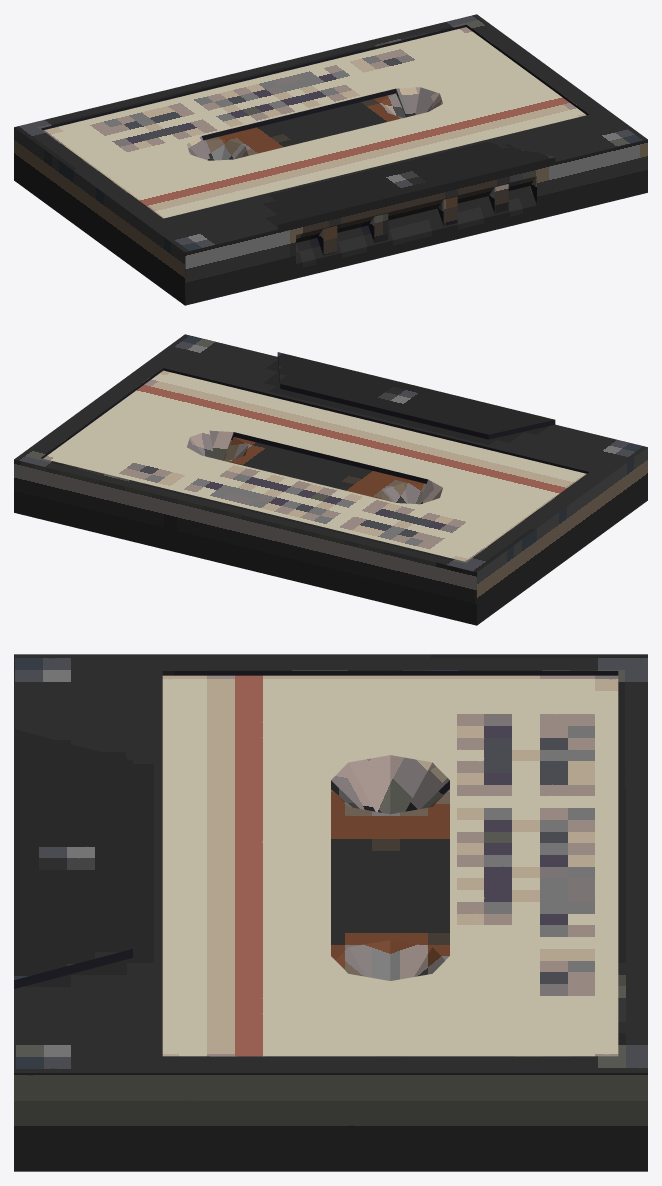
File: psx_cassette_tape.obj
The picture shows the model from 3 angles, top to bottom: view 1: azimuth 30°, elevation 25°; view 2: azimuth 150°, elevation 25°; view 3: azimuth 270°, elevation 25°; orthographic projection. The views are drawn at different scales.
Parts seen in each view (by area): view 1: cassette_tape; view 2: cassette_tape; view 3: cassette_tape.
Part boxes in pixels (<box>): cassette_tape: <box>14,14,647,305</box>; cassette_tape: <box>14,334,647,625</box>; cassette_tape: <box>14,654,647,1171</box>.
Size of the model in its own units: 0.1 by 0.012 by 0.064.
1 material, 1 textured.
